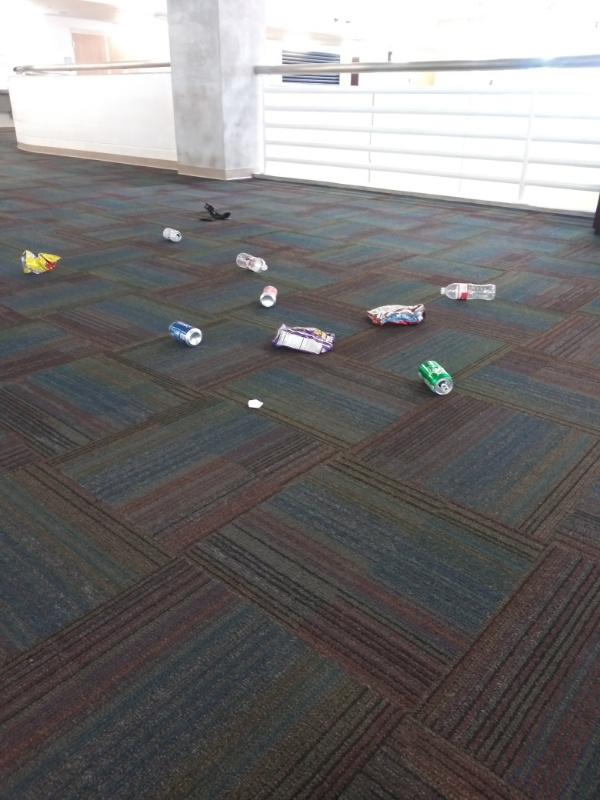bag: (267, 318, 340, 359), (361, 300, 428, 330), (13, 244, 65, 278)
bottle: (435, 280, 499, 306), (233, 249, 271, 275)
can: (414, 356, 455, 400), (162, 315, 204, 350), (257, 281, 280, 309), (158, 224, 182, 246)
